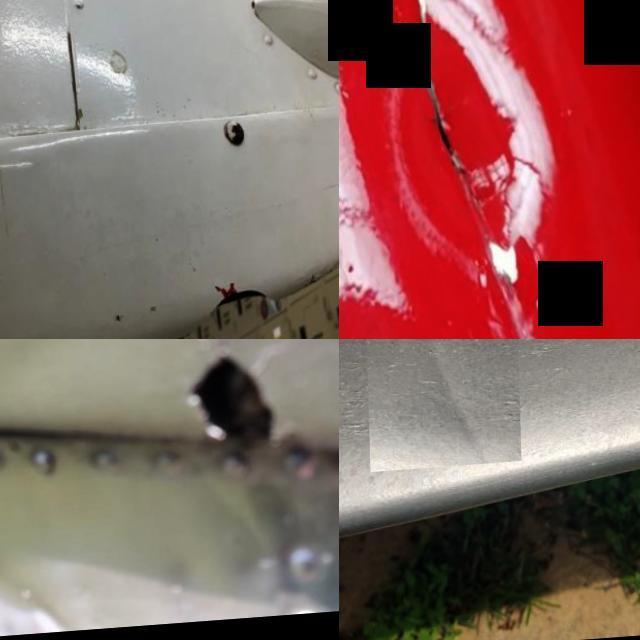Crack: (339, 0, 553, 312), (100, 339, 339, 490), (297, 238, 339, 306), (212, 114, 248, 170), (204, 272, 237, 314)
Dent: (363, 339, 518, 474)
